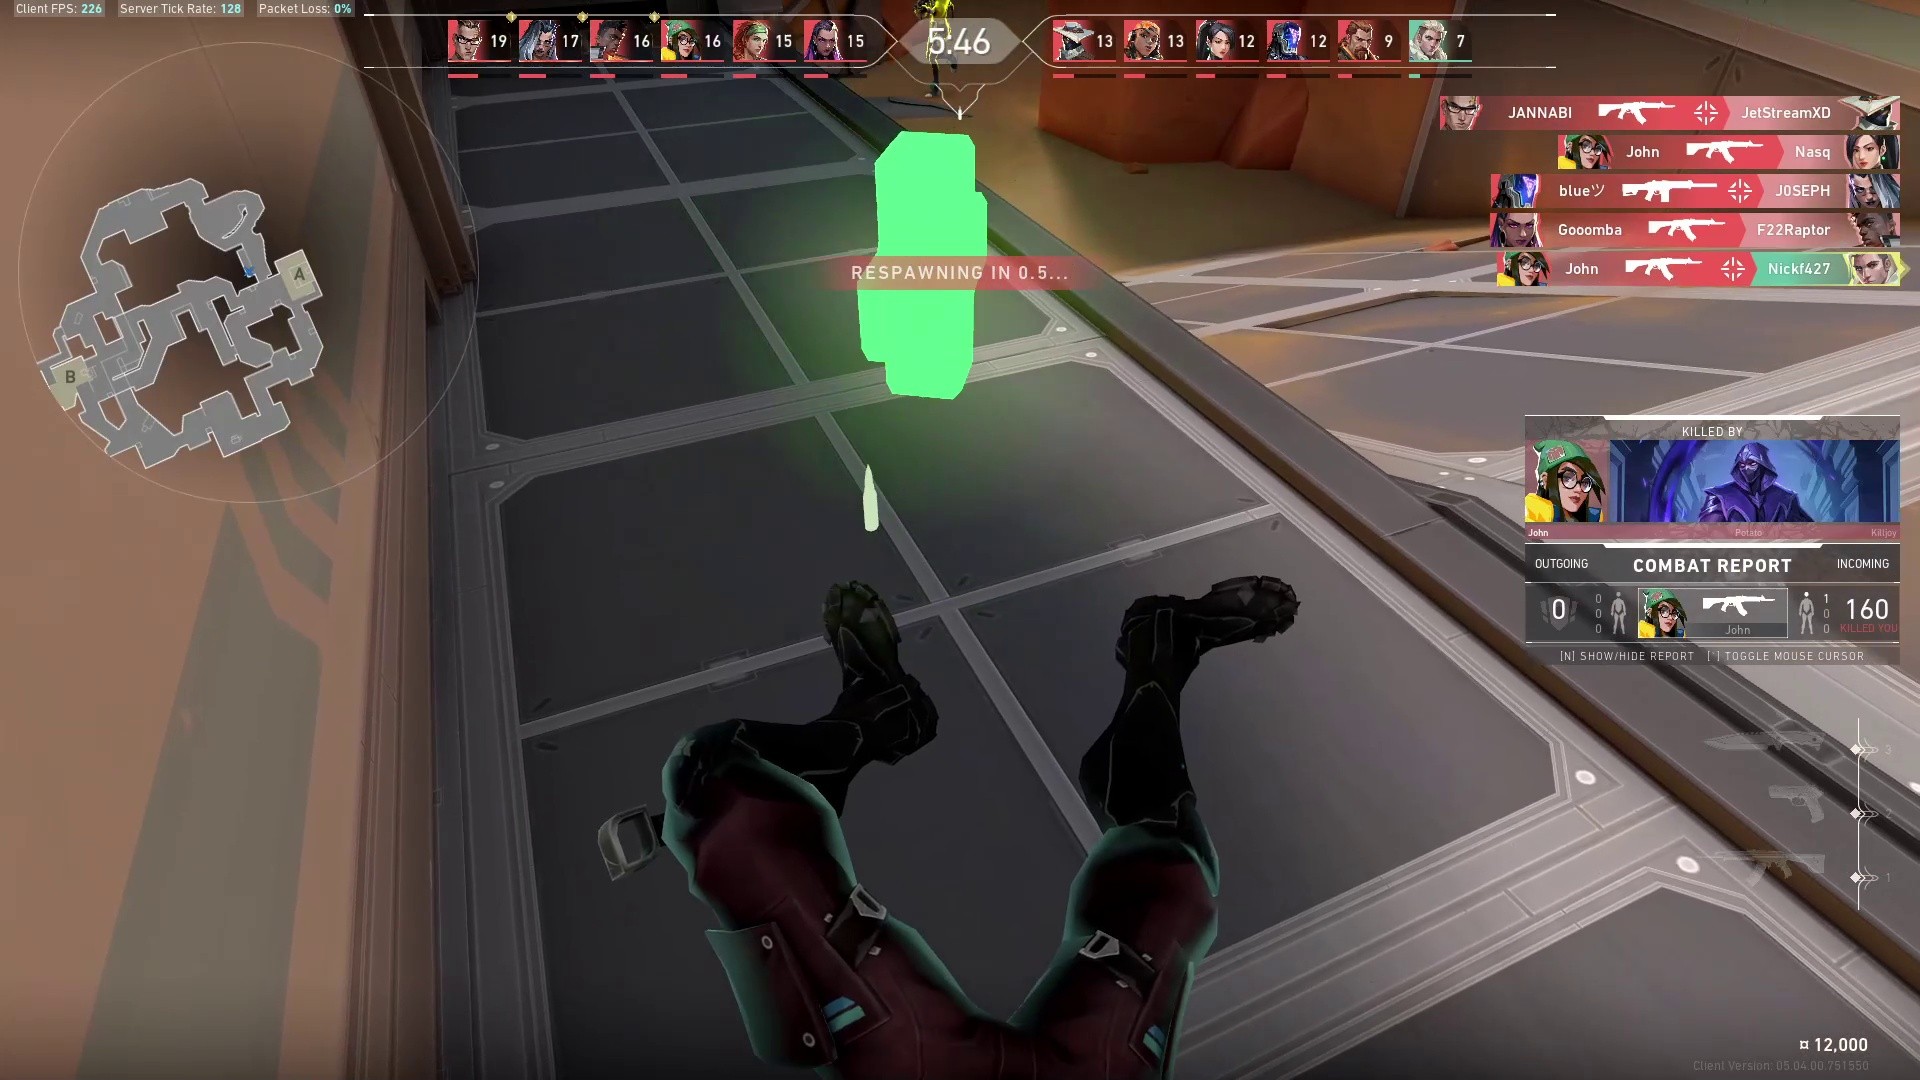enemy_gen: (913, 1, 963, 100)
